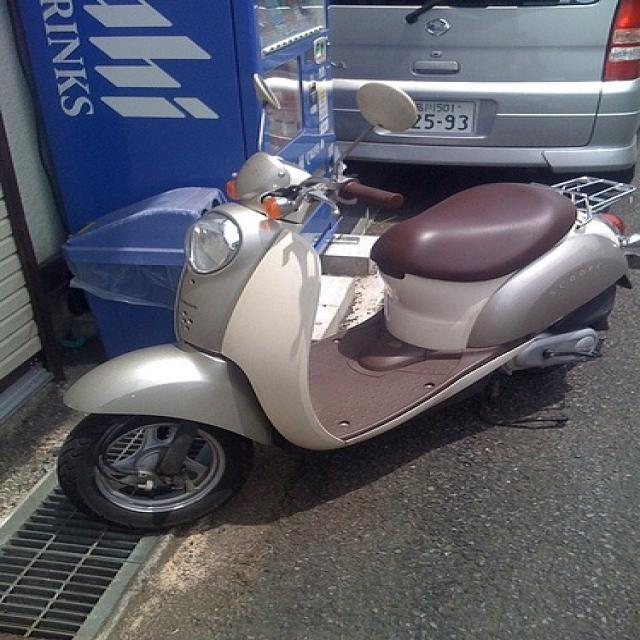scooter: (59, 153, 639, 528)
